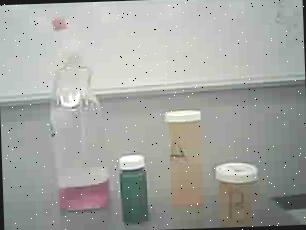Bottle A: (159, 101, 208, 211)
Bottle B: (213, 153, 277, 228)
Bottle C: (114, 146, 152, 228)
hazard: (40, 11, 114, 217)
